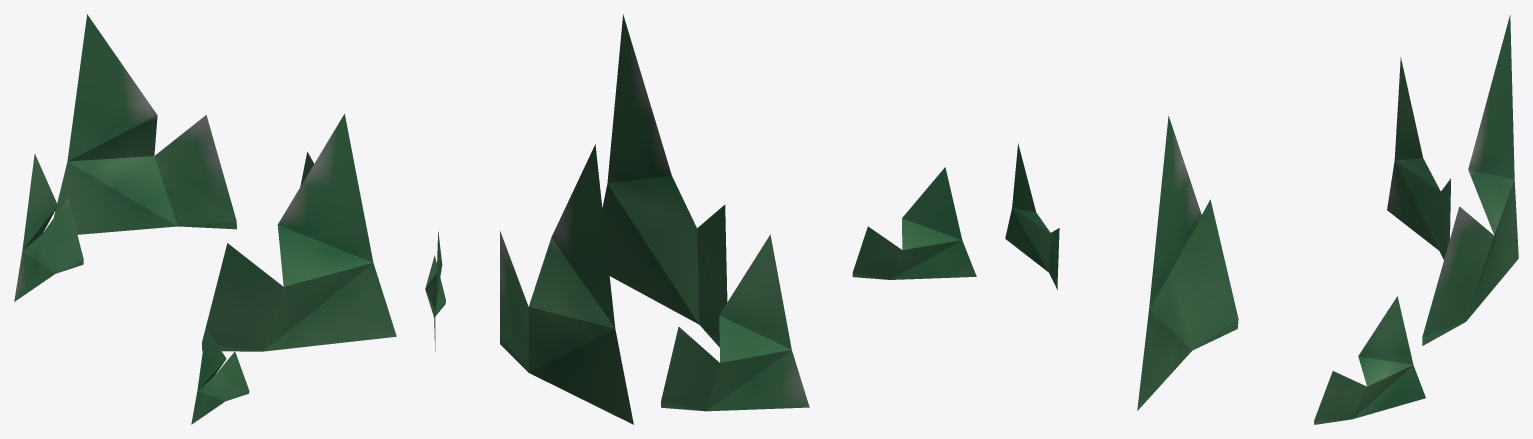
File: GJ_Decor_Exterior_Grass02.fbx
3 renders of one model, left to right at view 1: azimuth 30°, elevation 25°; view 2: azimuth 150°, elevation 25°; view 3: azimuth 270°, elevation 25°, orthographic. The views are drawn at different scales.
Parts seen in each view (by area): view 1: GJ_Decor_Exterior_Grass02; view 2: GJ_Decor_Exterior_Grass02; view 3: GJ_Decor_Exterior_Grass02.
Part boxes in pixels (x1,y1,x2,y2): GJ_Decor_Exterior_Grass02: [14, 14, 396, 424]; GJ_Decor_Exterior_Grass02: [425, 14, 976, 424]; GJ_Decor_Exterior_Grass02: [1005, 15, 1518, 424].
Bounding box in the file's own units: 1.7 × 1.27 × 1.89.
Materials: 1 (1 with a texture image).
